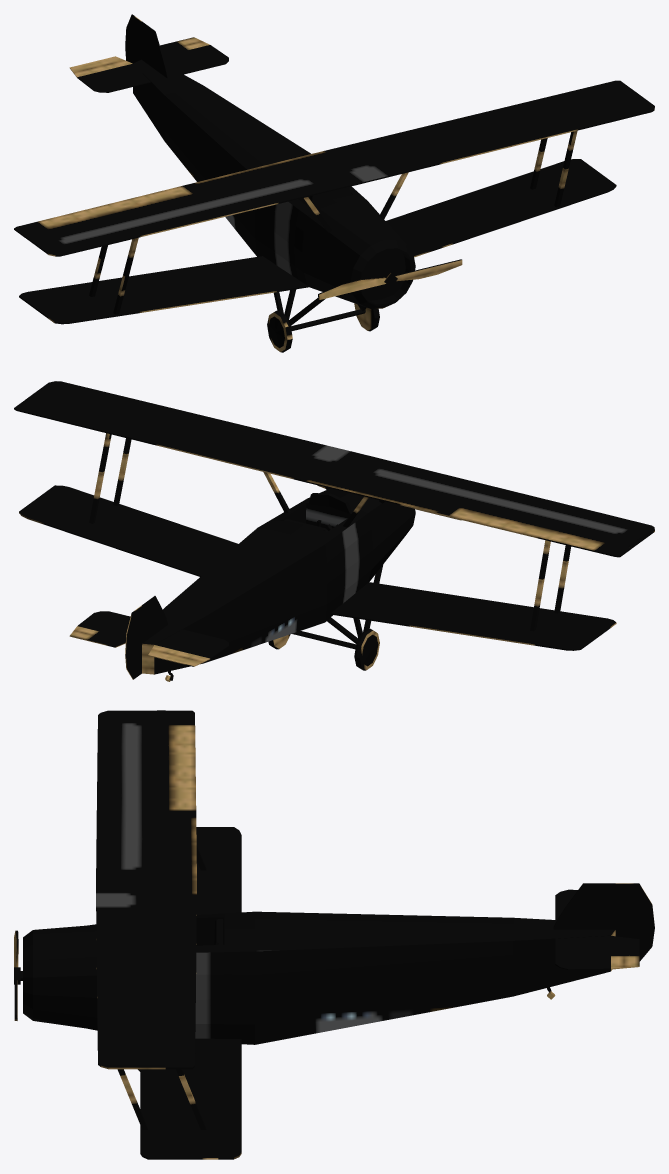
File: james_wooden_plane.obj
3 views of the same model, one above another, from view 1: azimuth 30°, elevation 25°; view 2: azimuth 150°, elevation 25°; view 3: azimuth 270°, elevation 25° (orthographic). The views are drawn at different scales.
Parts seen in each view (by area): view 1: Fuselage, TopLeftWing, TopRightWing, BottomRightWing, BottomLeftWing, TailWings?, Propeller, WheelConnecters, RightWheel, BigWingFlapTR, BigWingFlapTL, MiddleFlap (+2 smaller); view 2: Fuselage, TopLeftWing, TopRightWing, BottomRightWing, BottomLeftWing, TailWings?, MiddleFlap, WheelConnecters, BigWingFlapTR, BigWingFlapTL, RightWheel, BackFlapRight (+4 smaller); view 3: Fuselage, TopLeftWing, TopRightWing, BottomLeftWing, TailWings?, BottomRightWing, MiddleFlap, BigWingFlapTL, BigWingFlapTR, BackFlapLeft, BigWingFlapBR.
Part boxes in pixels (x1,y1,x2,y2): Fuselage: [133, 59, 415, 308]; TopLeftWing: [315, 88, 654, 218]; TopRightWing: [25, 153, 356, 276]; BottomRightWing: [25, 256, 308, 324]; BottomLeftWing: [386, 150, 616, 257]; TailWings?: [77, 21, 228, 92]; Propeller: [318, 259, 462, 299]; WheelConnecters: [273, 289, 366, 330]; RightWheel: [267, 310, 292, 352]; BigWingFlapTR: [14, 213, 83, 237]; BigWingFlapTL: [559, 80, 630, 102]; MiddleFlap: [125, 14, 141, 63]; Fuselage: [142, 488, 415, 674]; TopLeftWing: [25, 381, 356, 512]; TopRightWing: [315, 453, 654, 579]; BottomRightWing: [330, 560, 616, 645]; BottomLeftWing: [26, 453, 237, 576]; TailWings?: [77, 596, 228, 658]; MiddleFlap: [125, 605, 141, 679]; WheelConnecters: [292, 565, 382, 649]; BigWingFlapTR: [559, 533, 631, 557]; BigWingFlapTL: [14, 400, 84, 424]; RightWheel: [354, 628, 379, 670]; BackFlapRight: [148, 645, 209, 666]; Fuselage: [20, 911, 615, 1044]; TopLeftWing: [96, 889, 196, 1075]; TopRightWing: [96, 710, 196, 888]; BottomLeftWing: [120, 1038, 241, 1159]; TailWings?: [553, 883, 615, 969]; BottomRightWing: [196, 827, 241, 914]; MiddleFlap: [615, 883, 654, 961]; BigWingFlapTL: [165, 1032, 195, 1069]; BigWingFlapTR: [165, 710, 195, 745]; BackFlapLeft: [611, 936, 639, 969]; BigWingFlapBR: [218, 827, 241, 856].
Size of the model in its own units: 20.23 by 5.9 by 15.34.
